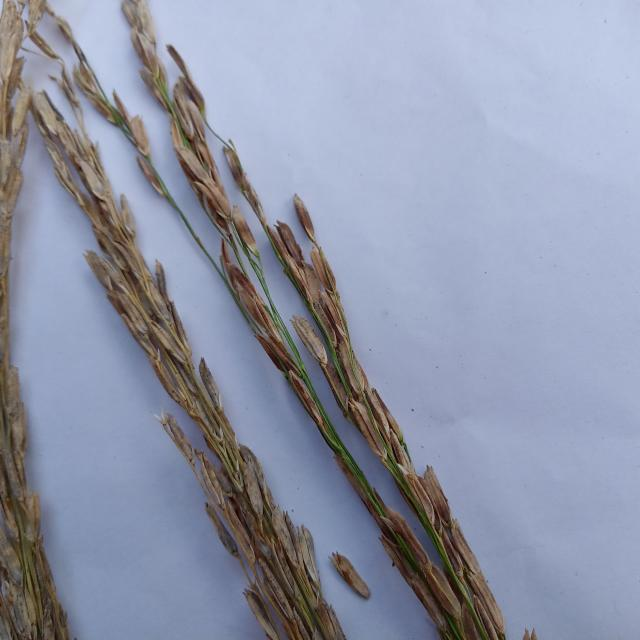Neck_Blast: (143, 56, 482, 640), (36, 127, 341, 639), (262, 218, 502, 638), (0, 2, 65, 639)
